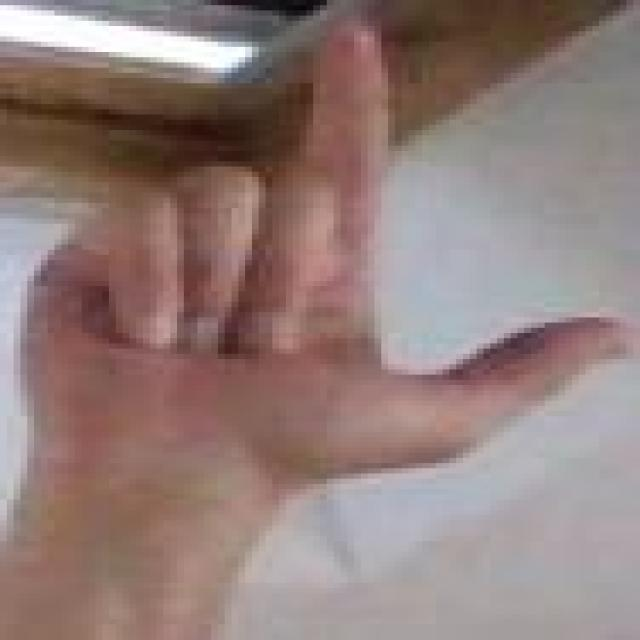L: (27, 0, 626, 473)
